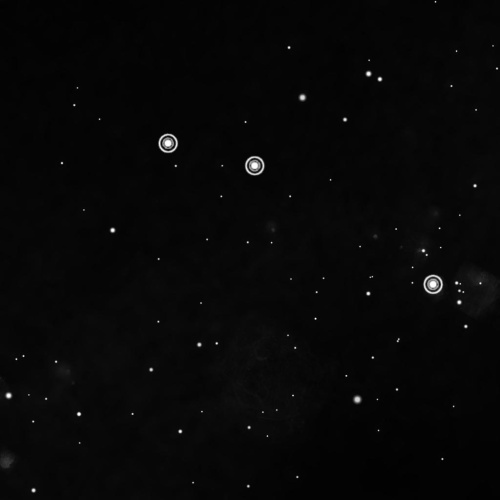vulpecula: (153, 130, 446, 300)
